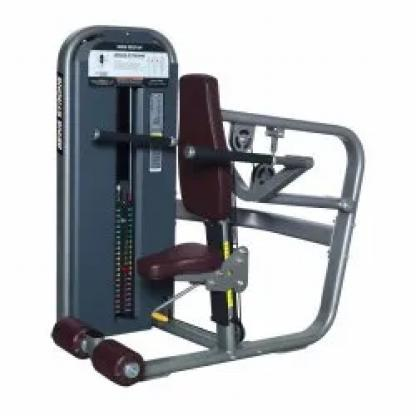seated dip machine: (50, 24, 366, 387)
